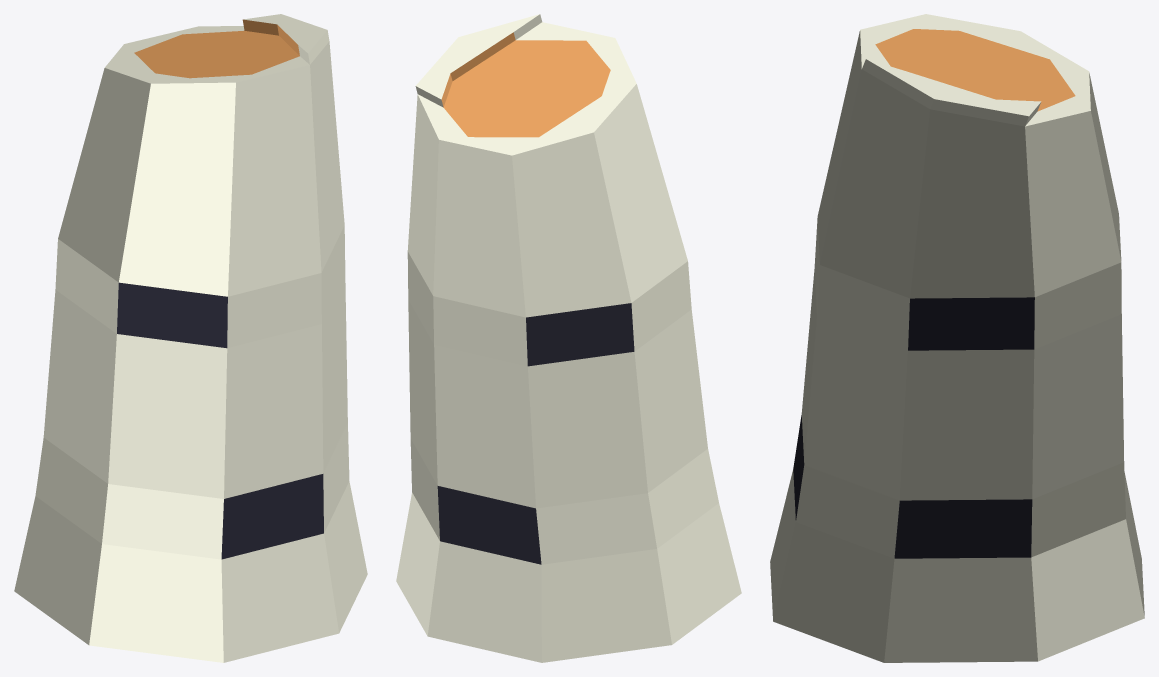
File: Stump3_autumn.FBX
3 views of the same model, side by side, from view 1: azimuth 30°, elevation 25°; view 2: azimuth 150°, elevation 25°; view 3: azimuth 270°, elevation 25° (orthographic). The views are drawn at different scales.
Visible parts, largest first — view 1: Berezka pen.010; view 2: Berezka pen.010; view 3: Berezka pen.010.
Boxes of the visible parts, x1,y1,x2,y2 form: Berezka pen.010: [14, 14, 367, 662]; Berezka pen.010: [396, 14, 741, 662]; Berezka pen.010: [770, 14, 1144, 662].
Bounding box in the file's own units: 0.449 × 0.8236 × 0.4911.
